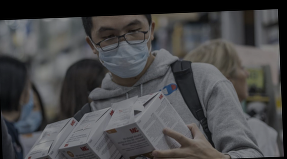with_mask: (91, 18, 151, 80), (13, 99, 42, 135), (14, 79, 33, 123)
without_mask: (230, 60, 251, 104)
